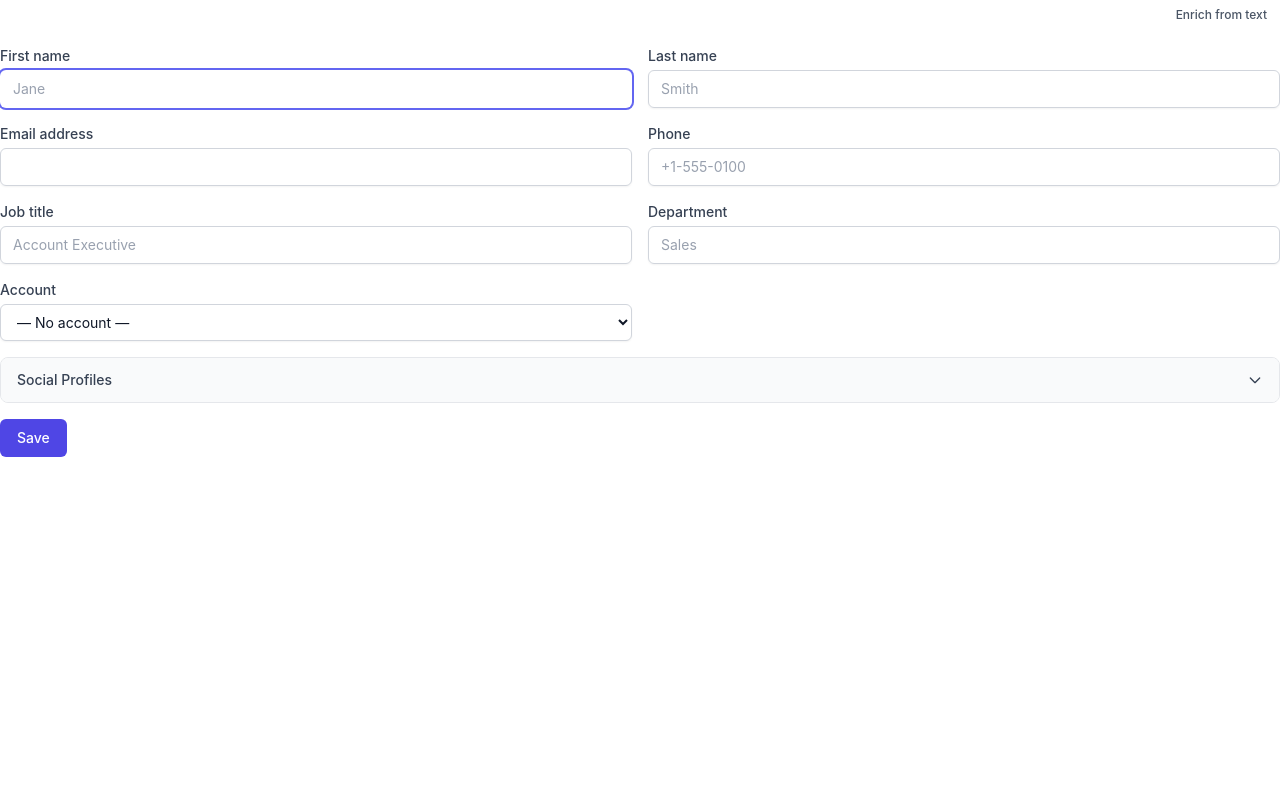
Test: ContactForm › AI contact enrichment › extracts and applies fields as a diff overlay, prefilling only extracted fields
The width and height of the screenshot is (1280, 800).
Note: Flag-gated: appears once the flag query confirms it, so await it.
Click the button with test id "contact-enrich-from-text-button": x=1221, y=15 x1=1163 y1=0 x2=1279 y2=30
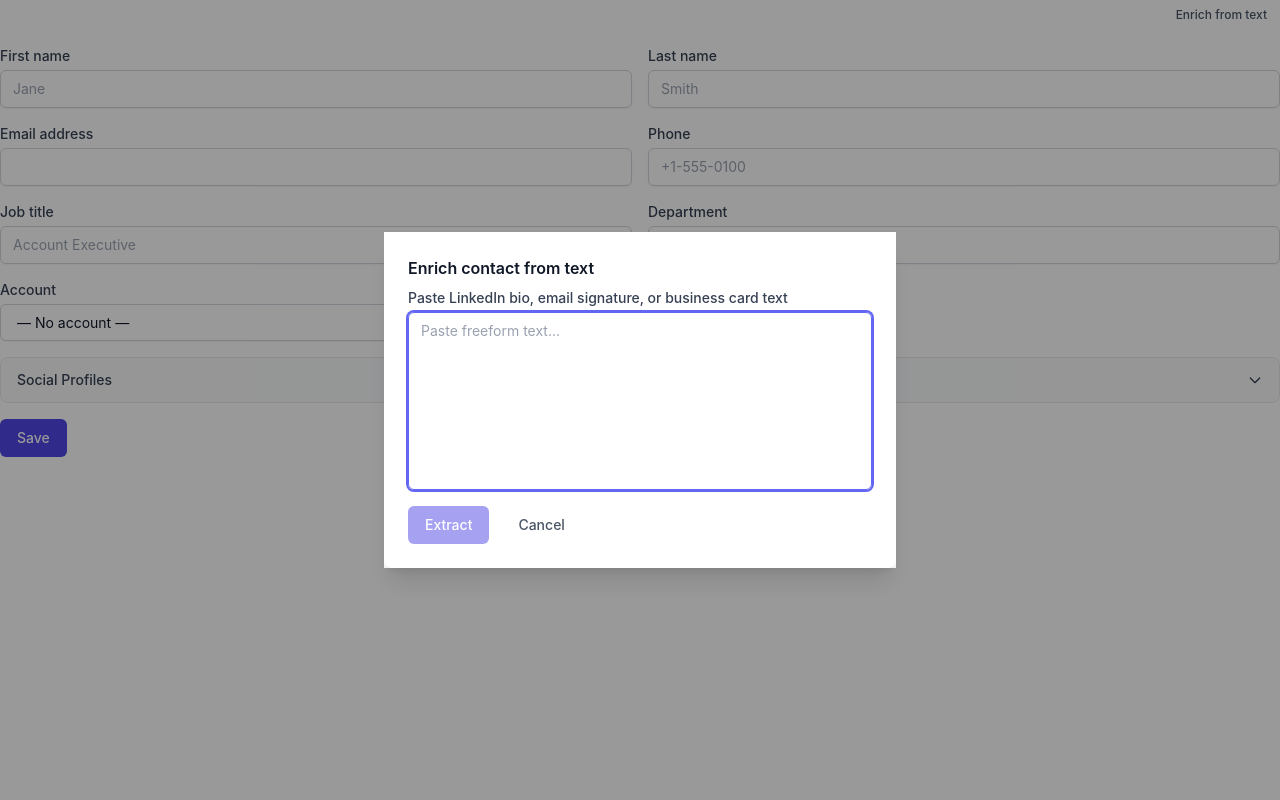
In the text box with test id "contact-enrichment-input": x=640, y=401 x1=408 y1=312 x2=872 y2=490, type "Jane Doe, VP Sales"
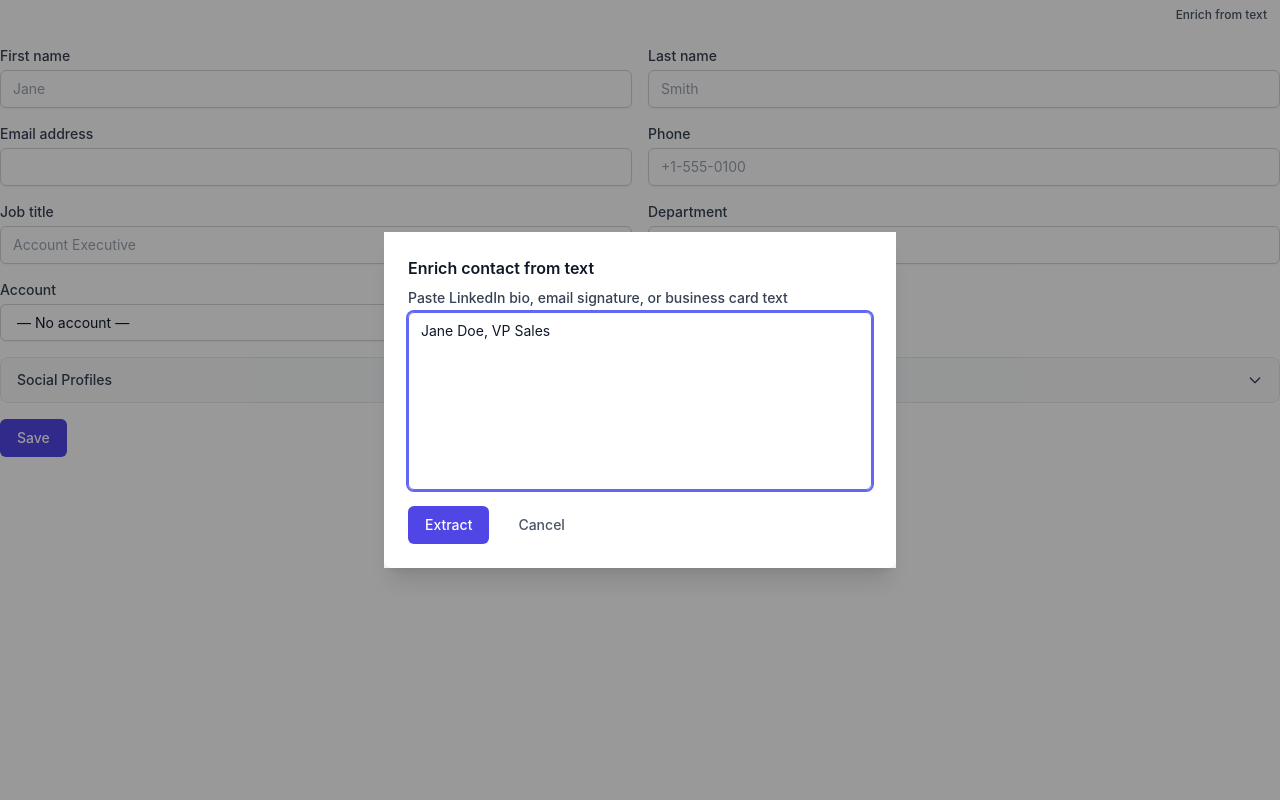
Click the button with test id "contact-enrichment-submit": x=449, y=525 x1=408 y1=506 x2=489 y2=544
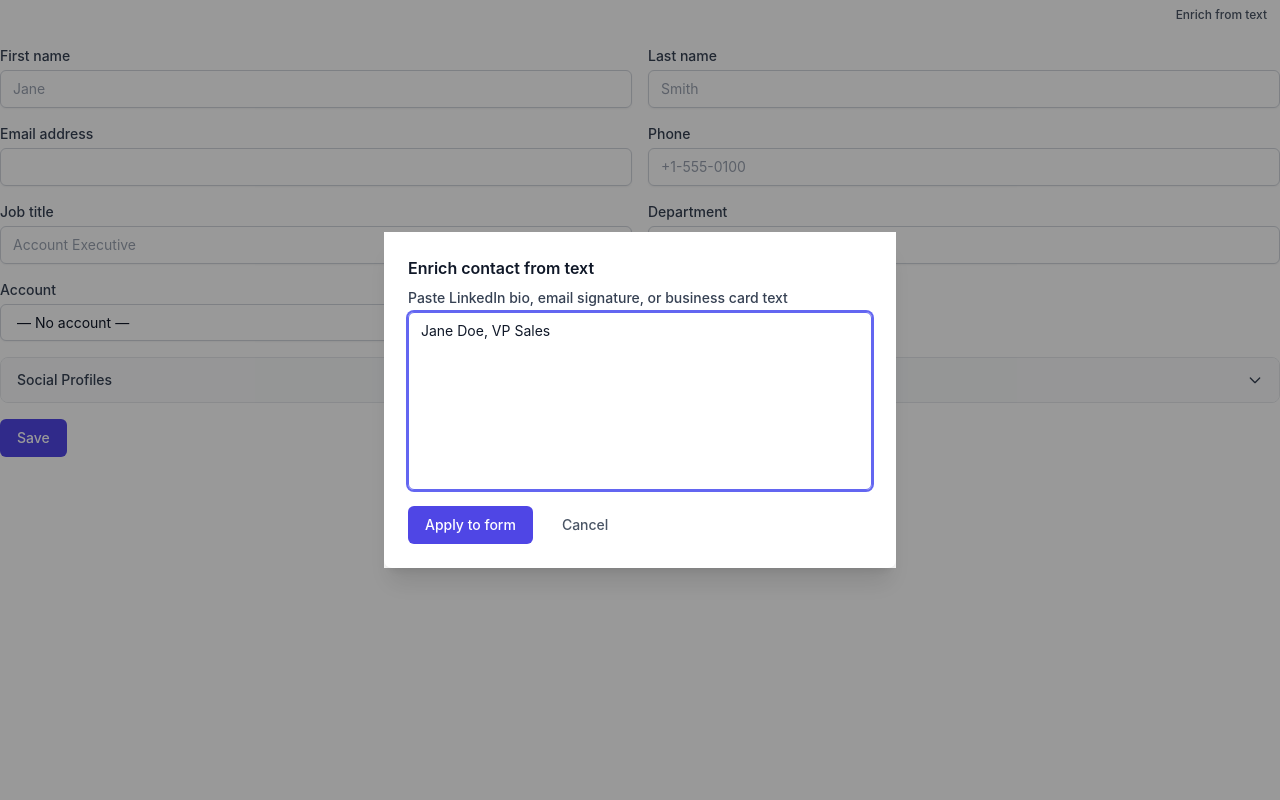
Expected: the button with test id "contact-enrichment-apply" is shown
Click the button with test id "contact-enrichment-apply": x=470, y=525 x1=408 y1=506 x2=533 y2=544
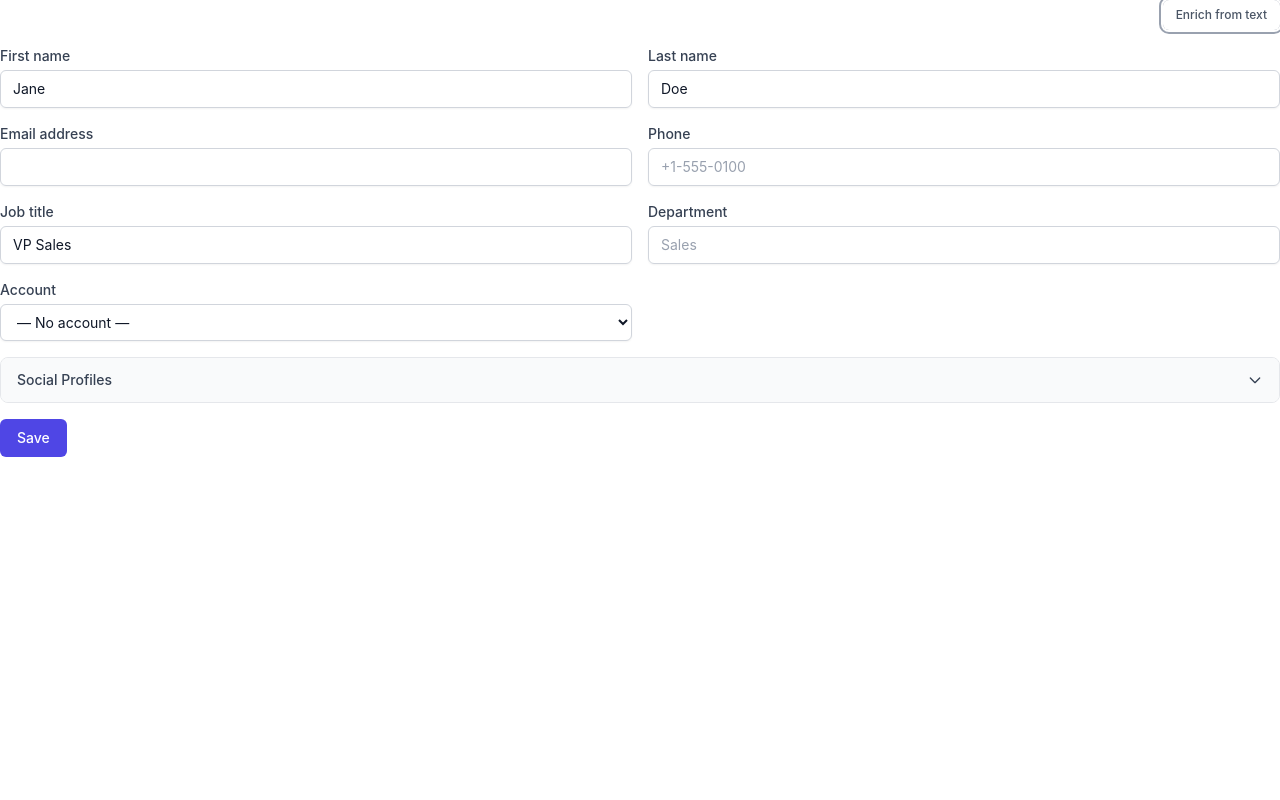
Expected: the dialog with test id "contact-enrichment-modal" is gone
Expected: the field with test id "contact-first-name" holds "Jane", x1=0 y1=70 x2=632 y2=108
Expected: the field with test id "contact-last-name" holds "Doe", x1=648 y1=70 x2=1279 y2=108
